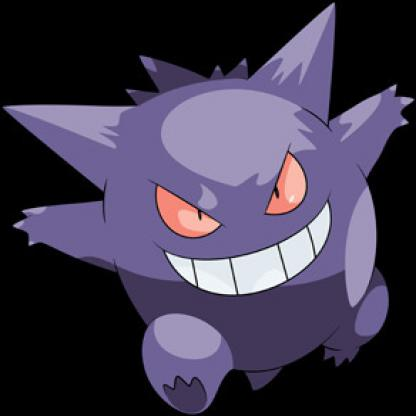Gengar: (1, 1, 416, 416)
